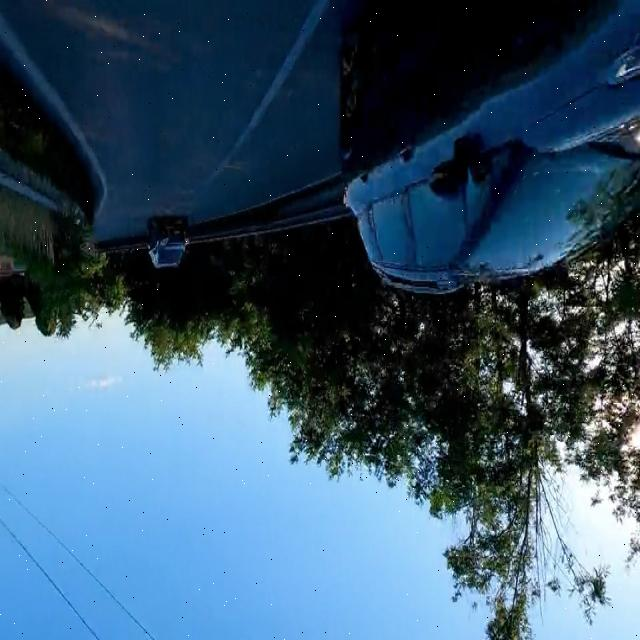lane: (206, 1, 329, 185), (1, 14, 108, 216)
road: (1, 2, 363, 242)
